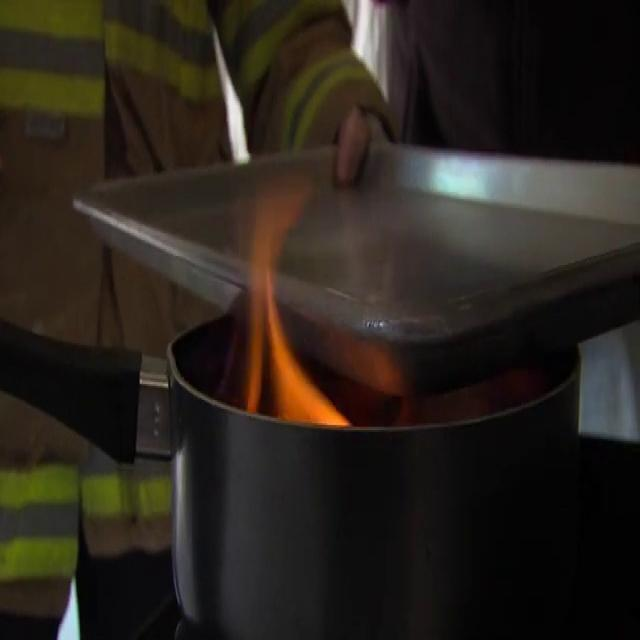fire: (219, 175, 368, 468)
